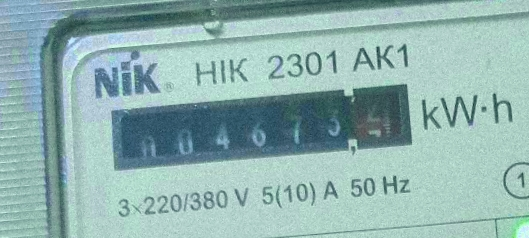0: (136, 129, 158, 161), (173, 124, 194, 157)
2: (360, 91, 383, 125)
3: (322, 104, 342, 139)
4: (211, 117, 232, 153)
6: (245, 114, 269, 149)
7: (283, 110, 308, 149)
screen: (103, 78, 418, 180)
